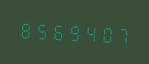eight: (17, 17, 32, 41)
five: (33, 17, 48, 42)
four: (81, 20, 96, 45)
nine: (65, 19, 80, 44)
seven: (113, 22, 128, 46)
six: (49, 18, 64, 43)
zero: (97, 21, 112, 45)
